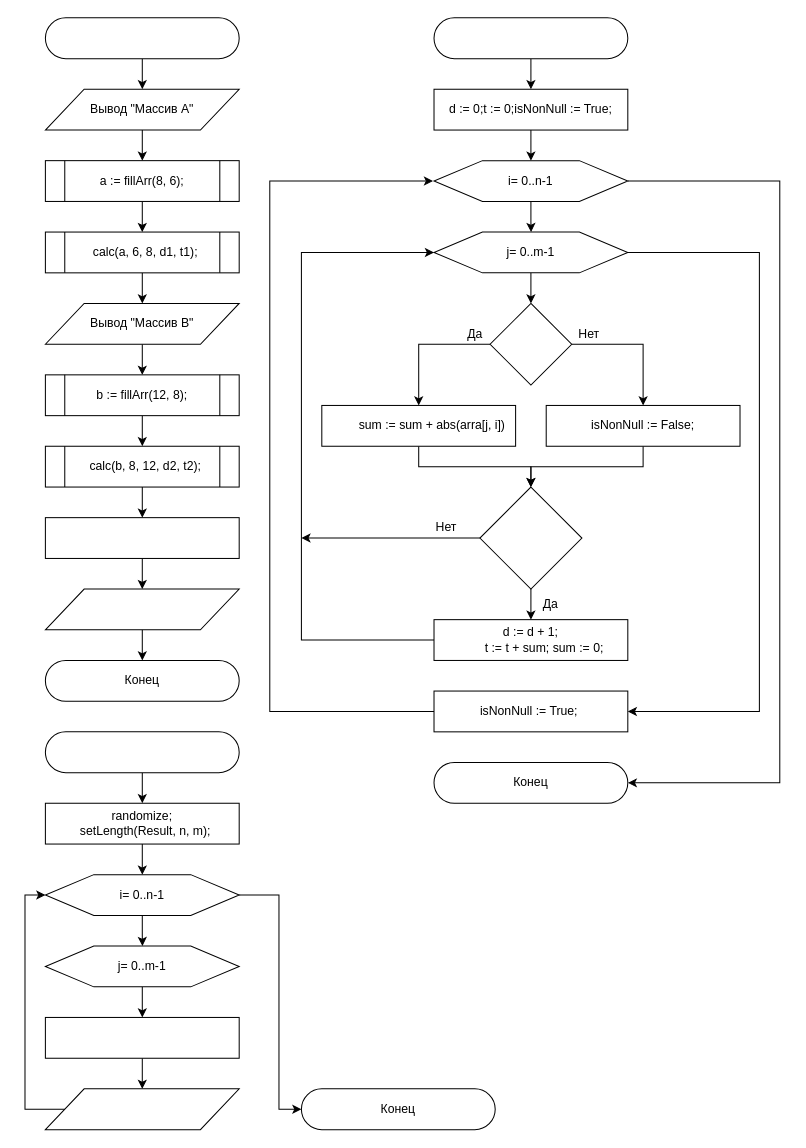
The diagram is 806 pixels wide and 1148 high, and some of its shapes have lost their labels. Each missing label, with the box of its shape:
arra[j, i] <> 0: (489, 302, 572, 385)
calc: (433, 17, 628, 59)
fillArr: (44, 731, 239, 773)
j = m - 1 and isNonNull: (479, 486, 582, 589)
Result[i, j] := random(-50, 50);: (44, 1016, 239, 1058)
x := ln(d2 / t2 / exp(d1 / t1));: (44, 517, 239, 558)
Вывод "Корень уравнения": (44, 588, 239, 630)
Вывод элемента массива: (44, 1088, 239, 1130)
Начало: (44, 17, 239, 59)
